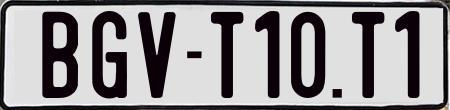0: (288, 10, 324, 101)
1: (252, 11, 280, 100), (394, 9, 419, 96)
B: (41, 12, 78, 98)
G: (90, 9, 125, 98)
T: (352, 10, 389, 101), (209, 9, 244, 101)
V: (138, 10, 180, 102)
